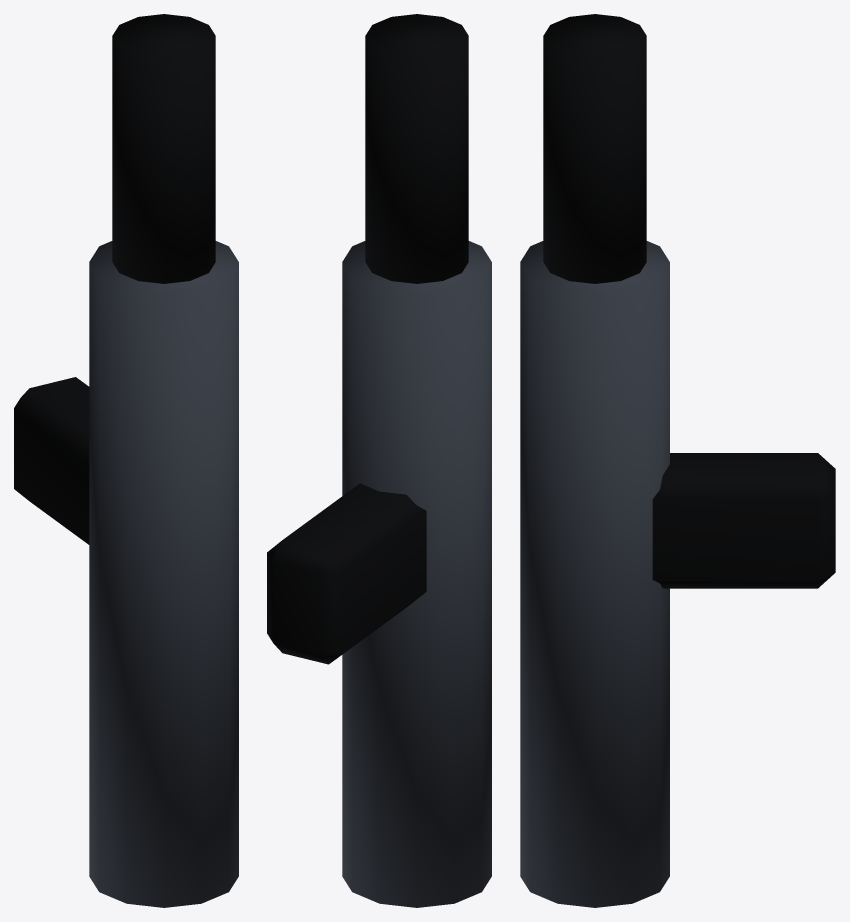
File: fire-nozzle.glb
3 views of the same model, side by side, from view 1: azimuth 30°, elevation 25°; view 2: azimuth 150°, elevation 25°; view 3: azimuth 270°, elevation 25° (orthographic).
Parts seen in each view (by area): view 1: fire-nozzle; view 2: fire-nozzle; view 3: fire-nozzle.
Part boxes in pixels (x1,y1,x2,y2): fire-nozzle: [14, 14, 238, 907]; fire-nozzle: [267, 14, 491, 907]; fire-nozzle: [520, 14, 835, 907].
Size of the model in its own units: 0.084 by 0.52 by 0.177.
1 material, 1 textured.
